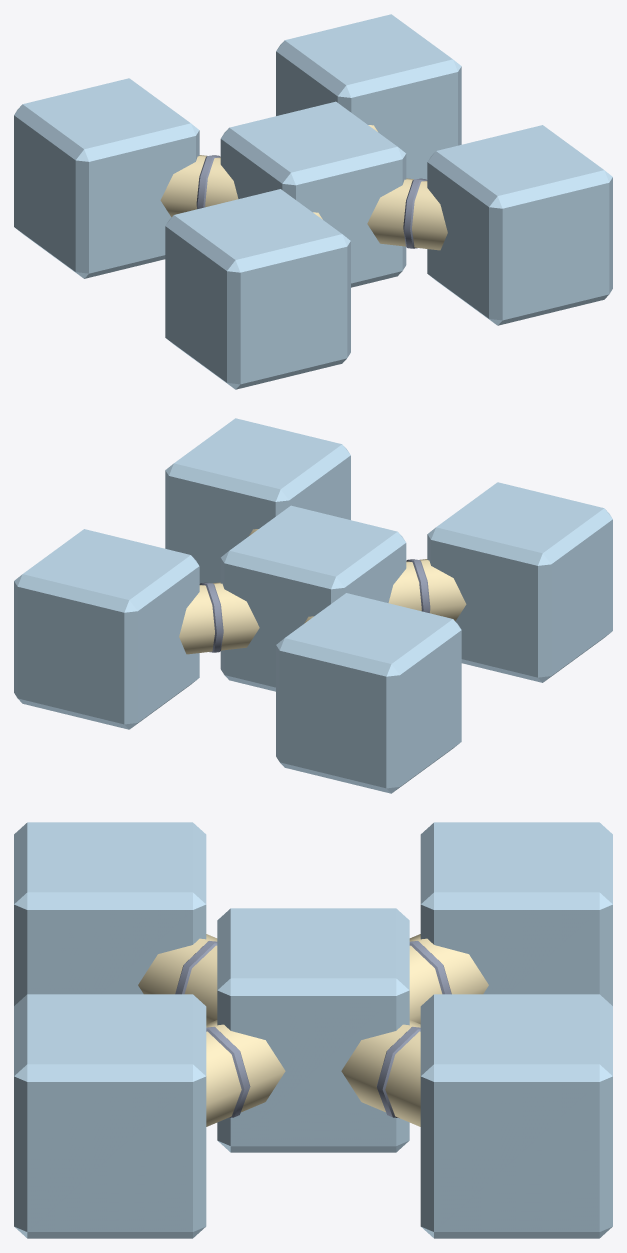
The model's file is R4C_STRUT_CROSS_LOD1.glb.
3 views of the same model, one above another, from view 1: azimuth 30°, elevation 25°; view 2: azimuth 150°, elevation 25°; view 3: azimuth 270°, elevation 25° (orthographic). The views are drawn at different scales.
Visible parts, largest first — view 1: R4C_STRUT_CROSS_LOD1; view 2: R4C_STRUT_CROSS_LOD1; view 3: R4C_STRUT_CROSS_LOD1.
Part boxes in pixels (x1=…): R4C_STRUT_CROSS_LOD1: x1=14, y1=14, x2=612, y2=389; R4C_STRUT_CROSS_LOD1: x1=14, y1=418, x2=612, y2=793; R4C_STRUT_CROSS_LOD1: x1=14, y1=822, x2=612, y2=1238.
Size of the model in its own units: 1.62 by 0.52 by 1.62.
